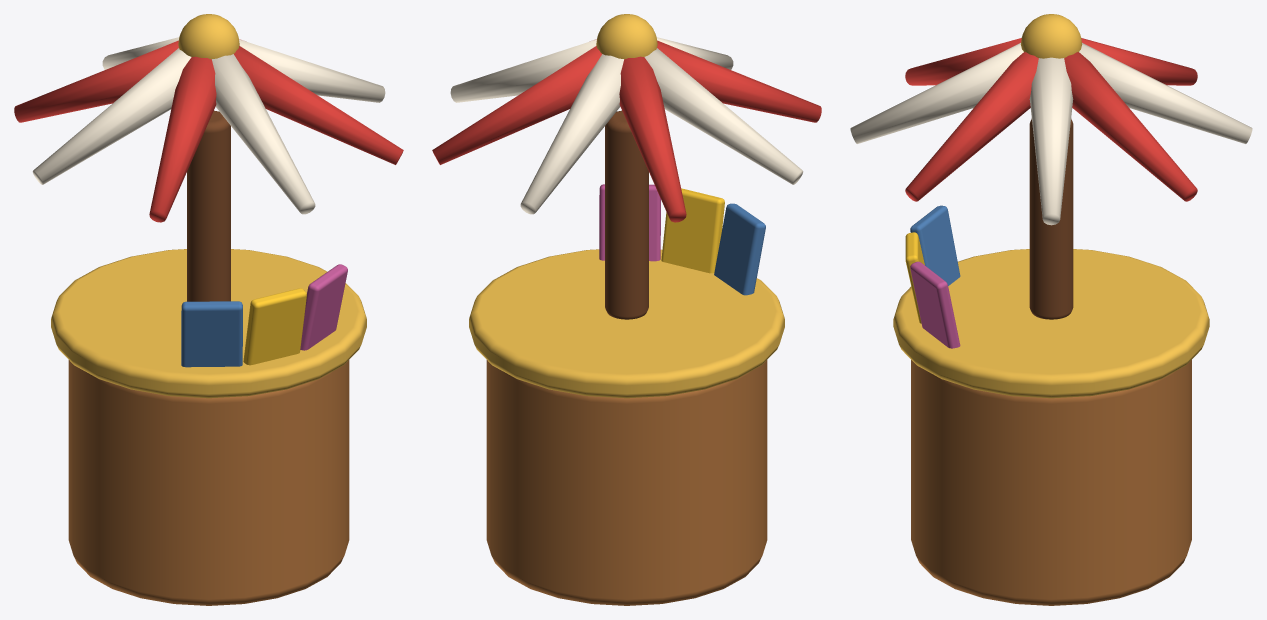
The model's file is kiosk.glb.
3 views of the same model, side by side, from view 1: azimuth 30°, elevation 25°; view 2: azimuth 150°, elevation 25°; view 3: azimuth 270°, elevation 25° (orthographic).
Parts seen in each view (by area): view 1: kiosk; view 2: kiosk; view 3: kiosk.
Part boxes in pixels (<box>): kiosk: <box>14,14,403,605</box>; kiosk: <box>432,14,821,605</box>; kiosk: <box>850,14,1252,605</box>.
Bounding box in the file's own units: 0.9162 × 1.35 × 0.9162.
